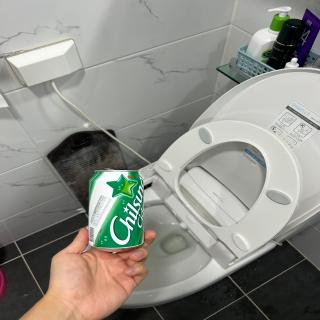chilsung: (87, 167, 148, 253)
